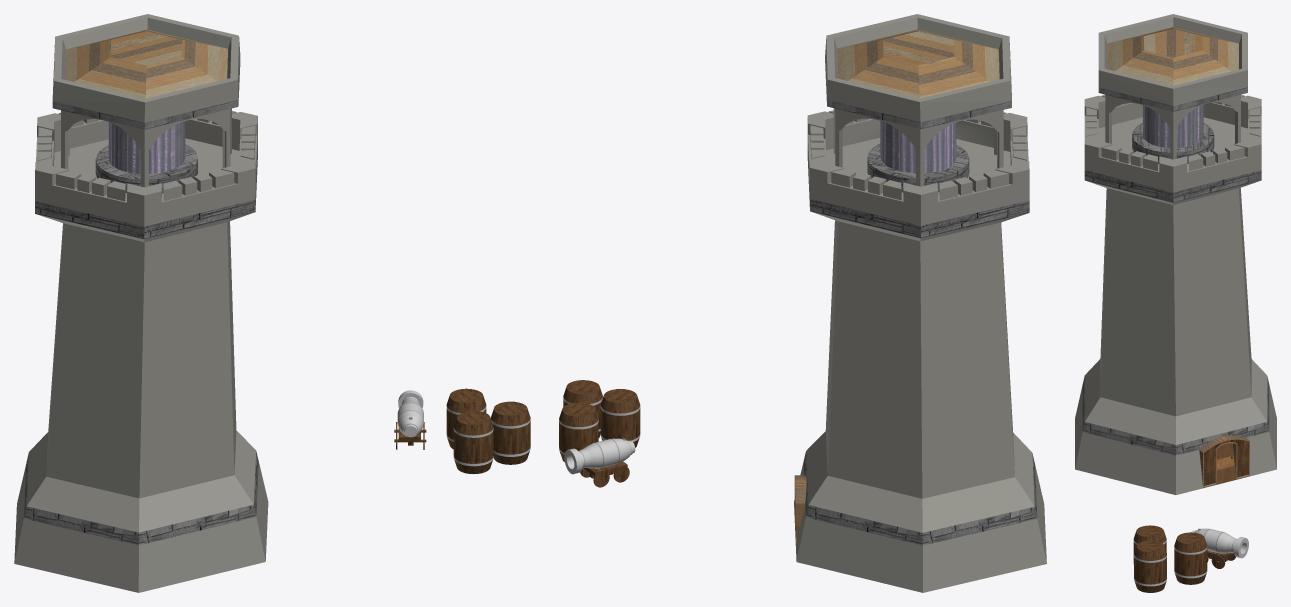
Rendered from PirateObstacle1.fbx.
The picture shows the model from 3 angles, left to right: view 1: azimuth 30°, elevation 25°; view 2: azimuth 150°, elevation 25°; view 3: azimuth 270°, elevation 25°; orthographic projection. The views are drawn at different scales.
Visible parts, largest first — view 1: Group3, Group2, Barrel2, Barrel1, Barrel3, Group8; view 2: Group3, Group2, Barrel2, Barrel3, Group8, Barrel1; view 3: Group3, Group2, Barrel3, Barrel1, Group8, Barrel2.
Boxes of the visible parts, x1,y1,x2,y2 form: Group3: (14, 14, 268, 592); Group2: (108, 121, 185, 173); Barrel2: (453, 411, 493, 474); Barrel1: (490, 401, 530, 464); Barrel3: (446, 388, 486, 449); Group8: (397, 390, 423, 437); Group3: (794, 14, 1046, 592); Group2: (880, 121, 956, 173); Barrel2: (600, 389, 640, 447); Barrel3: (559, 402, 598, 461); Group8: (564, 438, 635, 474); Barrel1: (563, 380, 602, 437); Group3: (1075, 14, 1276, 494); Group2: (1142, 104, 1203, 147); Barrel3: (1174, 532, 1207, 584); Barrel1: (1134, 540, 1166, 592); Group8: (1192, 528, 1248, 558); Barrel2: (1133, 525, 1166, 564).
Bounding box in the file's own units: 472 × 439 × 200.
